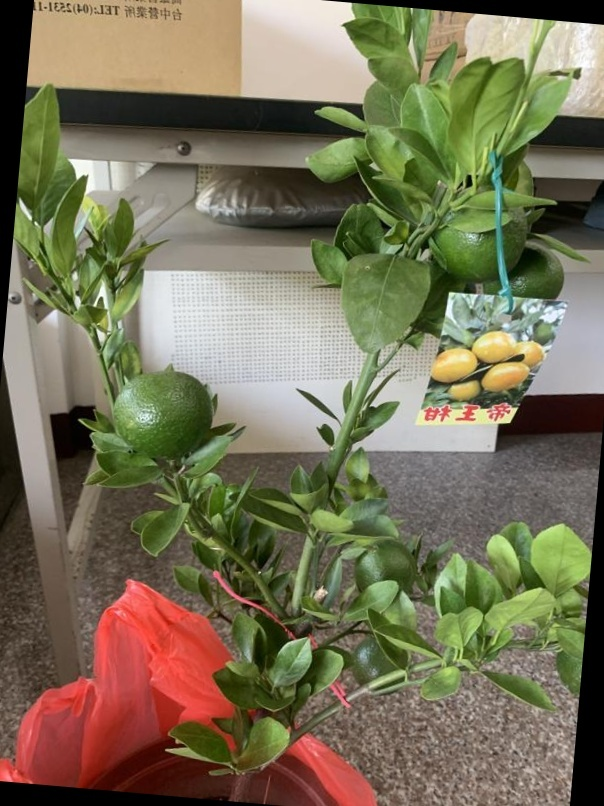Tangerine: (111, 369, 214, 460)
